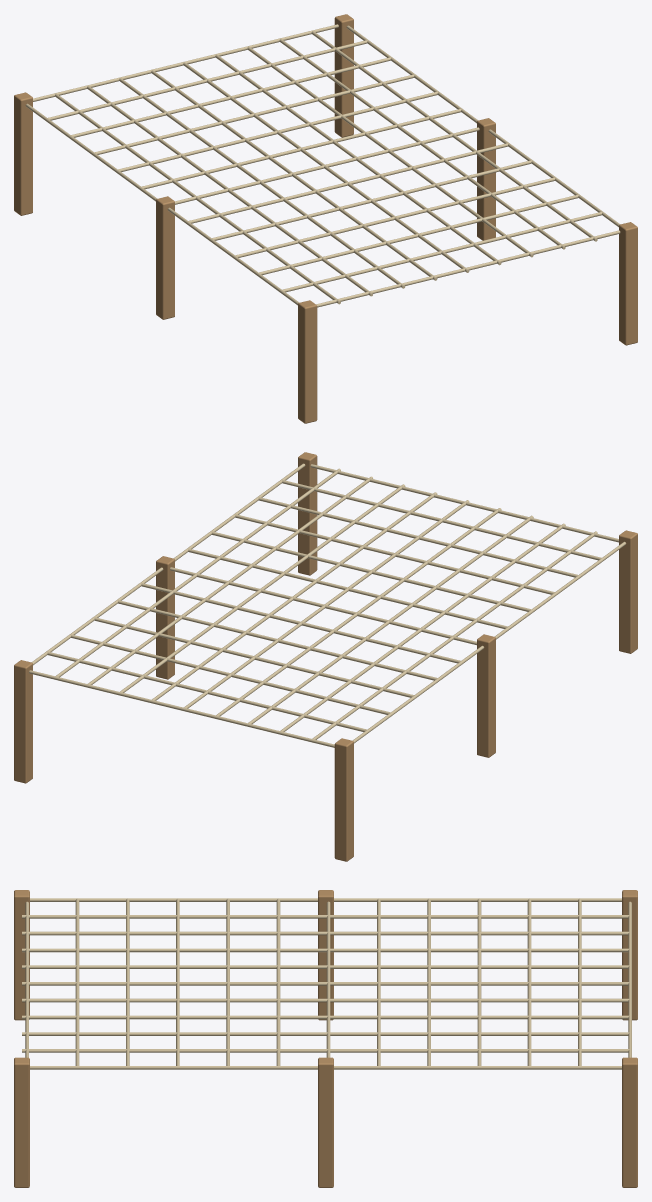
Rendered from training_crawl_frame.glb.
3 renders of one model, top to bottom at view 1: azimuth 30°, elevation 25°; view 2: azimuth 150°, elevation 25°; view 3: azimuth 270°, elevation 25°, orthographic. The views are drawn at different scales.
Visible parts, largest first — view 1: Crawl_Post_3, Crawl_Post_6, Crawl_Post, Crawl_Post_2, Crawl_Post_4, Crawl_Post_5, Upper_Rope_Length_8, Upper_Rope_Length_10, Upper_Rope_Length_4, Upper_Rope_Length_5, Upper_Rope_Length_7, Upper_Rope_Length_2 (+18 smaller); view 2: Crawl_Post, Crawl_Post_4, Crawl_Post_3, Crawl_Post_2, Crawl_Post_6, Crawl_Post_5, Upper_Rope_Length_7, Upper_Rope_Length_3, Upper_Rope_Length_4, Upper_Rope_Length_8, Upper_Rope_Length_9, Upper_Rope_Length_2 (+18 smaller); view 3: Upper_Rope_Length_3, Upper_Rope_Length_7, Upper_Rope_Length_8, Upper_Rope_Length_4, Upper_Rope_Length_9, Upper_Rope_Length_5, Upper_Rope_Length_6, Upper_Rope_Length_2, Upper_Rope_Length_10, Upper_Rope_Length_11, Upper_Rope_Length, Crawl_Post_4 (+18 smaller).
Boxes of the visible parts, x1,y1,x2,y2 form: Crawl_Post_3: [298, 300, 317, 423]; Crawl_Post_6: [619, 222, 637, 345]; Crawl_Post: [14, 92, 32, 215]; Crawl_Post_2: [156, 196, 174, 319]; Crawl_Post_4: [334, 14, 353, 137]; Crawl_Post_5: [477, 118, 495, 240]; Upper_Rope_Length_8: [247, 46, 533, 257]; Upper_Rope_Length_10: [311, 30, 597, 241]; Upper_Rope_Length_4: [119, 77, 405, 288]; Upper_Rope_Length_5: [151, 70, 437, 280]; Upper_Rope_Length_7: [215, 54, 501, 265]; Upper_Rope_Length_2: [55, 93, 340, 304]; Crawl_Post: [334, 738, 353, 861]; Crawl_Post_4: [14, 660, 32, 783]; Crawl_Post_3: [619, 530, 637, 653]; Crawl_Post_2: [477, 634, 495, 757]; Crawl_Post_6: [298, 452, 317, 575]; Crawl_Post_5: [156, 556, 174, 679]; Upper_Rope_Length_7: [152, 492, 437, 700]; Upper_Rope_Length_3: [280, 523, 565, 731]; Upper_Rope_Length_4: [248, 515, 533, 723]; Upper_Rope_Length_8: [120, 484, 405, 692]; Upper_Rope_Length_9: [88, 476, 372, 684]; Upper_Rope_Length_2: [312, 531, 597, 739]; Upper_Rope_Length_3: [22, 931, 629, 935]; Upper_Rope_Length_7: [22, 998, 629, 1002]; Upper_Rope_Length_8: [22, 1015, 629, 1019]; Upper_Rope_Length_4: [22, 948, 629, 952]; Upper_Rope_Length_9: [22, 1032, 629, 1035]; Upper_Rope_Length_5: [22, 965, 629, 968]; Upper_Rope_Length_6: [22, 982, 629, 985]; Upper_Rope_Length_2: [22, 915, 629, 918]; Upper_Rope_Length_10: [22, 1049, 629, 1052]; Upper_Rope_Length_11: [30, 1066, 621, 1069]; Upper_Rope_Length: [30, 898, 621, 901]; Crawl_Post_4: [622, 1057, 637, 1187].
Bounding box in the file's own units: 1.56 × 0.52 × 2.36.
